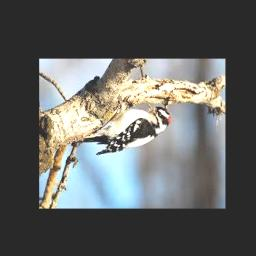Woodpecker: (77, 102, 170, 155)
